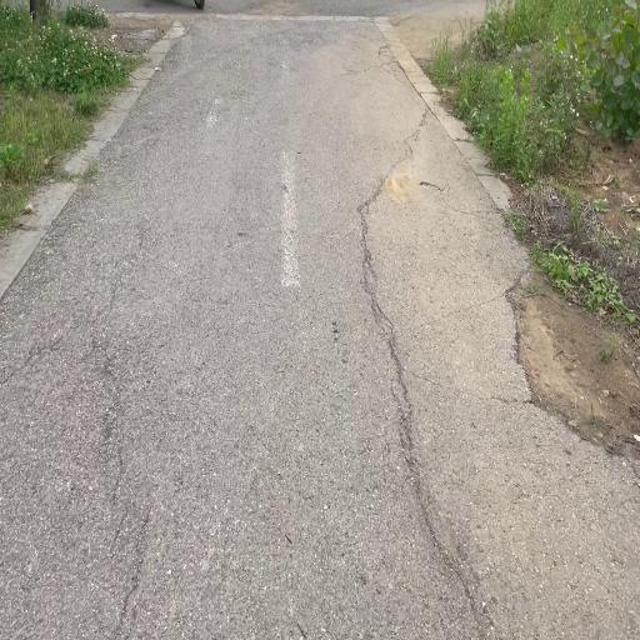Pinggir: (447, 136, 640, 495)
